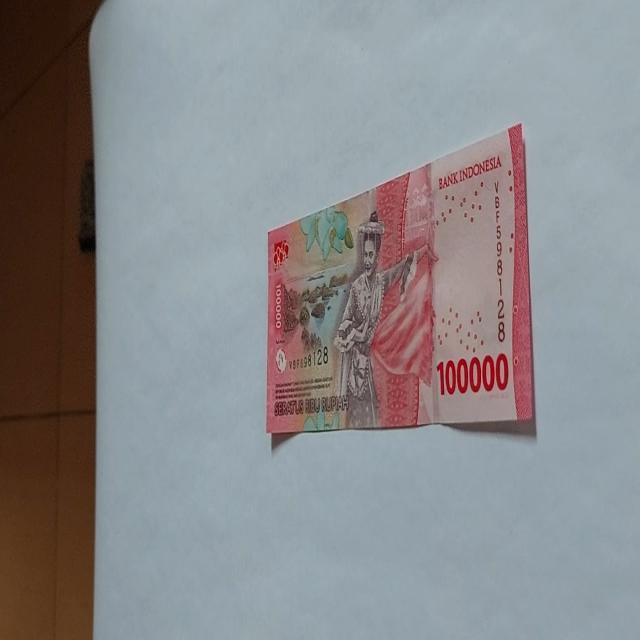seratus ribu rupiah: (264, 121, 536, 438), (332, 208, 418, 428)
